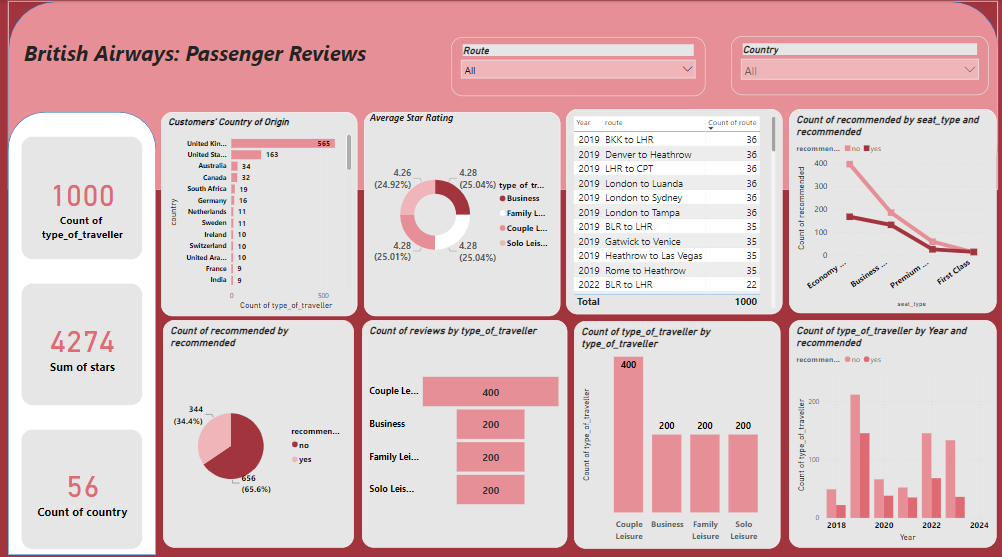

The page's visual inventory and layout, read from the dashboard file:
{"tool":"powerbi","page":{"name":"Page 1","canvas":[1800,1000],"ordinal":0},"visuals":[{"type":"shape","box":[14,2,1774,338],"z":0},{"type":"pieChart","fields":{"Category":["Sheet1.recommended"],"Y":["CountNonNull(Sheet1.recommended)"]},"box":[292,574,342,408],"z":1000},{"type":"barChart","title":"Customers'' Country of Origin","fields":{"Y":["CountNonNull(Sheet1.type_of_traveller)"],"Category":["Sheet1.country"]},"box":[288,200,352,366],"z":2000},{"type":"tableEx","fields":{"Values":["Sheet1.date.Variation.Date Hierarchy.Year","Sheet1.route","CountNonNull(Sheet1.route)"]},"box":[1014,196,388,368],"z":3000},{"type":"lineChart","fields":{"Series":["Sheet1.recommended"],"Category":["Sheet1.seat_type"],"Y":["CountNonNull(Sheet1.recommended)"]},"box":[1414,196,372,366],"z":4000},{"type":"columnChart","fields":{"Category":["Sheet1.type_of_traveller"],"Y":["CountNonNull(Sheet1.type_of_traveller)"]},"box":[1028,576,370,408],"z":5000},{"type":"clusteredColumnChart","fields":{"Y":["CountNonNull(Sheet1.type_of_traveller)"],"Series":["Sheet1.recommended"],"Category":["Sheet1.date.Variation.Date Hierarchy.Year"]},"box":[1414,574,372,408],"z":6000},{"type":"funnel","fields":{"Category":["Sheet1.type_of_traveller"],"Y":["CountNonNull(Sheet1.reviews)"]},"box":[648,574,368,408],"z":7000},{"type":"shape","box":[14.3,200.7,265.2,793.9],"z":8000},{"type":"card","fields":{"Values":["CountNonNull(Sheet1.type_of_traveller)"]},"box":[38,244,218,222],"z":9000},{"type":"card","fields":{"Values":["Sum(Sheet1.stars)"]},"box":[38,508,218,220],"z":10000},{"type":"card","fields":{"Values":["Count(Sheet1.country)"]},"box":[38,768,218,216],"z":11000},{"type":"slicer","fields":{"Values":["Sheet1.route"]},"box":[808,66,456,106],"z":12000},{"type":"slicer","fields":{"Values":["Sheet1.country"]},"box":[1310,64,462,106],"z":13000},{"type":"textbox","box":[38,64,722,106],"z":14000},{"type":"donutChart","fields":{"Category":["Sheet1.type_of_traveller"],"Y":["Avg(Sheet1.stars)"]},"box":[652,200,352,366],"z":15000},{"type":"textbox","box":[658,196,300,72],"z":16000}]}

Visuals, with their boxes in screenshot pixels (x1, y1, x2, y2), scaled from the page's 1800x1000 canvas onto the 1002x557 screenshot:
shape: <bbox>8, 1, 995, 189</bbox>
pieChart - Sheet1.recommended x CountNonNull(Sheet1.recommended): <bbox>163, 320, 353, 547</bbox>
"Customers'' Country of Origin" barChart: <bbox>160, 111, 356, 315</bbox>
tableEx - Sheet1.date.Variation.Date Hierarchy.Year x Sheet1.route: <bbox>564, 109, 780, 314</bbox>
lineChart - Sheet1.recommended x Sheet1.seat_type: <bbox>787, 109, 994, 313</bbox>
columnChart - Sheet1.type_of_traveller x CountNonNull(Sheet1.type_of_traveller): <bbox>572, 321, 778, 548</bbox>
clusteredColumnChart - CountNonNull(Sheet1.type_of_traveller) x Sheet1.recommended: <bbox>787, 320, 994, 547</bbox>
funnel - Sheet1.type_of_traveller x CountNonNull(Sheet1.reviews): <bbox>361, 320, 566, 547</bbox>
shape: <bbox>8, 112, 156, 554</bbox>
card - CountNonNull(Sheet1.type_of_traveller): <bbox>21, 136, 143, 260</bbox>
card - Sum(Sheet1.stars): <bbox>21, 283, 143, 405</bbox>
card - Count(Sheet1.country): <bbox>21, 428, 143, 548</bbox>
slicer - Sheet1.route: <bbox>450, 37, 704, 96</bbox>
slicer - Sheet1.country: <bbox>729, 36, 986, 95</bbox>
textbox: <bbox>21, 36, 423, 95</bbox>
donutChart - Sheet1.type_of_traveller x Avg(Sheet1.stars): <bbox>363, 111, 559, 315</bbox>
textbox: <bbox>366, 109, 533, 149</bbox>
